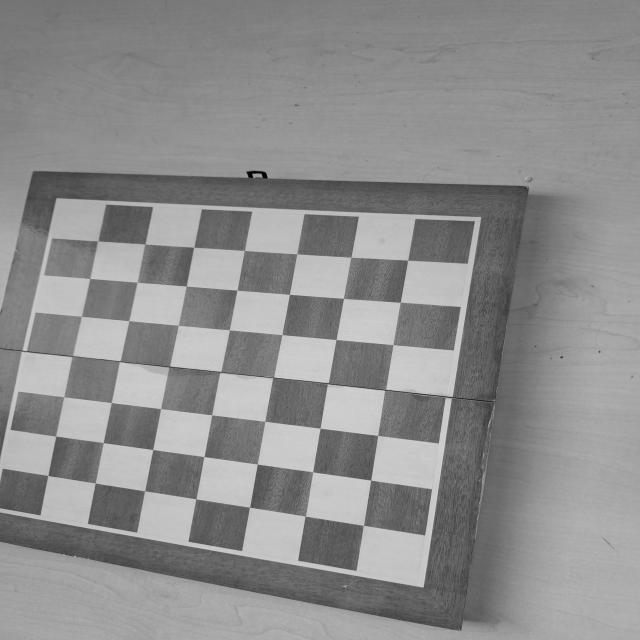chess-table-corners: (402, 570, 432, 594), (459, 212, 489, 232), (48, 194, 74, 212)
